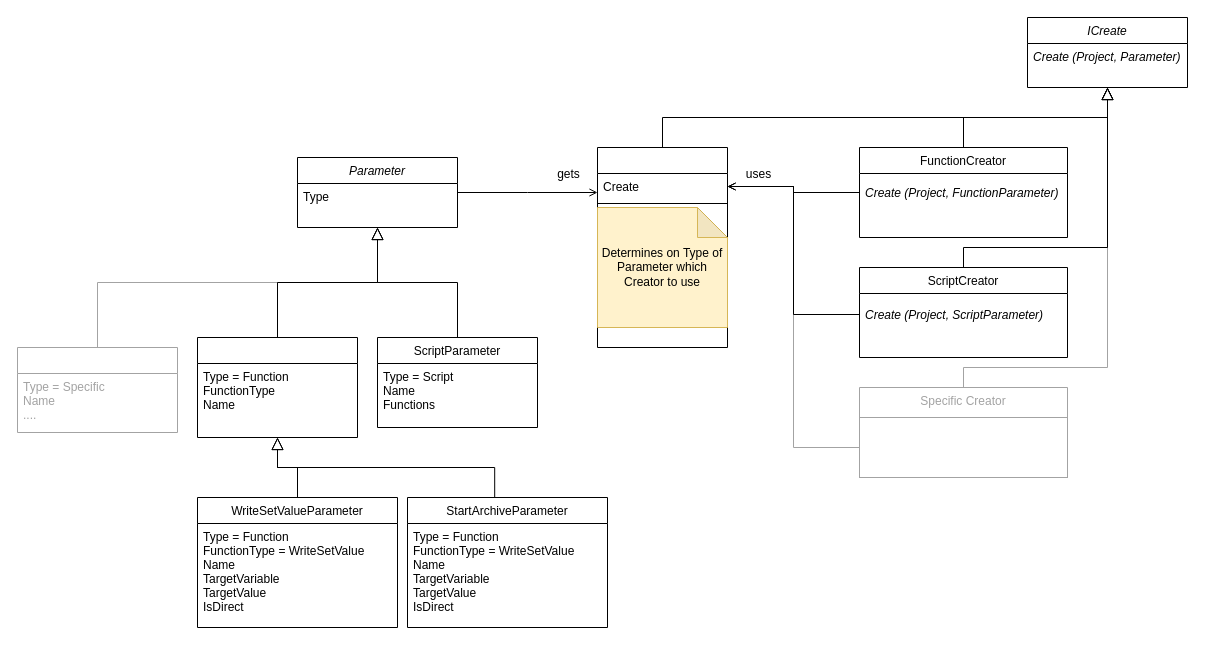
Image size: 1205x648. Some labels were removed from this diagram. The box of each missing label's shape, as (x1, y1, x2, y2) in pixels:
BasicCreator: (596, 146, 728, 348)
Create (Project, SpecificParameter): (858, 416, 1068, 478)
FunctionParameter: (196, 336, 358, 438)
SpecificParameter: (16, 346, 178, 432)
